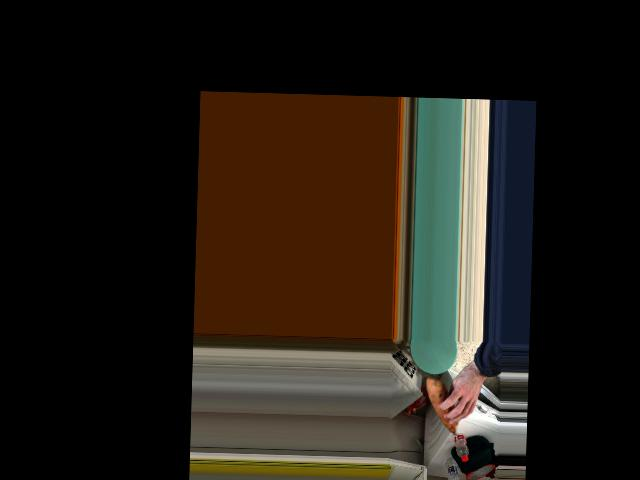sweet_potato: (426, 386, 468, 431)
